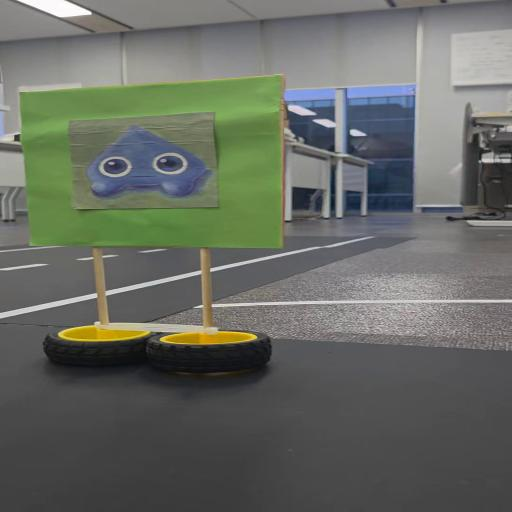Sign_B: (16, 72, 314, 380)
